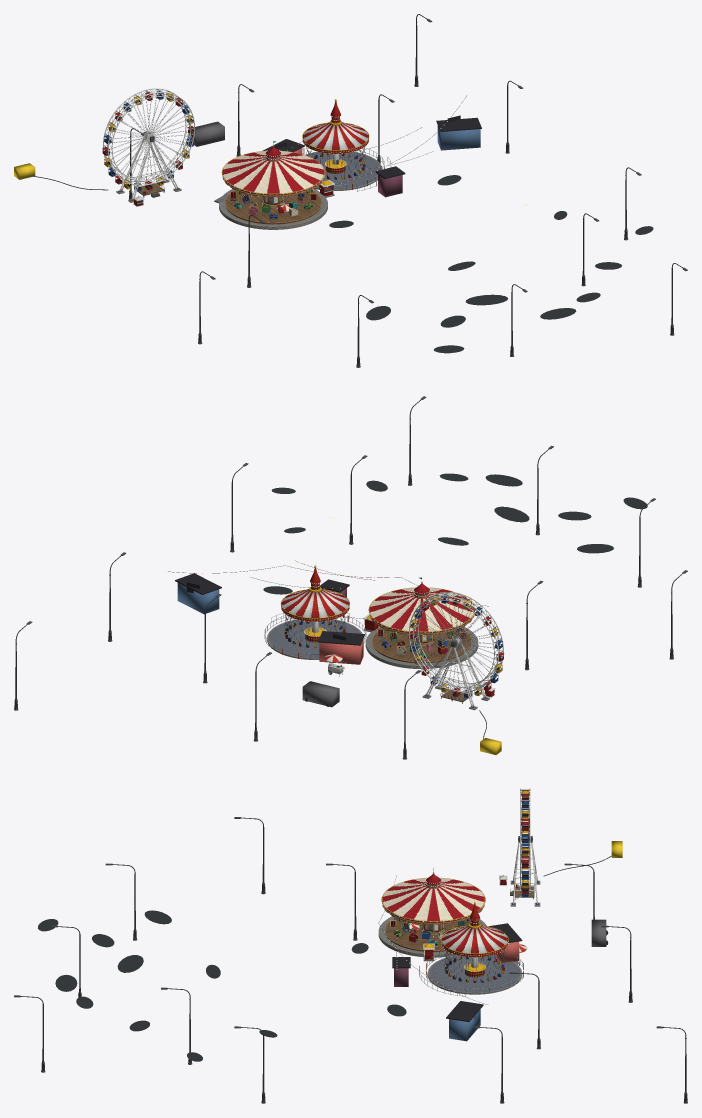
Rendered from carnival.glb.
The picture shows the model from 3 angles, top to bottom: view 1: azimuth 30°, elevation 25°; view 2: azimuth 150°, elevation 25°; view 3: azimuth 270°, elevation 25°; orthographic projection. The views are drawn at different scales.
Visible parts, largest first — view 1: canopy_red, canopy_cream, wheel_white, wheel_cable, platform_deck, body_floor, top_spin_red, top_spin_white, FoodTr_1, body_white, EqTrailer, body_tread; view 2: wheel_white, canopy_red, canopy_cream, body_floor, wheel_cable, platform_deck, top_spin_red, top_spin_white, body_white, FoodTr_1, FoodTr_0, EqTrailer (+1 smaller); view 3: body_floor, canopy_red, canopy_cream, top_spin_red, platform_deck, top_spin_white, FoodTr_1, FoodAwn_1, body_steel.
Boxes of the visible parts, x1=… form: canopy_red: x1=221, y1=147, x2=325, y2=194; canopy_cream: x1=222, y1=151, x2=324, y2=193; wheel_white: x1=103, y1=88, x2=194, y2=185; wheel_cable: x1=111, y1=95, x2=189, y2=180; platform_deck: x1=225, y1=190, x2=321, y2=222; body_floor: x1=306, y1=152, x2=380, y2=188; top_spin_red: x1=303, y1=102, x2=368, y2=150; top_spin_white: x1=303, y1=122, x2=368, y2=150; FoodTr_1: x1=437, y1=125, x2=480, y2=150; body_white: x1=119, y1=138, x2=178, y2=203; EqTrailer: x1=189, y1=121, x2=224, y2=146; body_tread: x1=219, y1=189, x2=327, y2=226; wheel_white: x1=409, y1=592, x2=503, y2=692; canopy_red: x1=368, y1=583, x2=474, y2=632; canopy_cream: x1=369, y1=588, x2=474, y2=632; body_floor: x1=268, y1=619, x2=360, y2=657; wheel_cable: x1=414, y1=601, x2=496, y2=685; platform_deck: x1=372, y1=628, x2=471, y2=661; top_spin_red: x1=281, y1=568, x2=349, y2=617; top_spin_white: x1=282, y1=589, x2=348, y2=617; body_white: x1=425, y1=644, x2=495, y2=707; FoodTr_1: x1=177, y1=583, x2=219, y2=614; FoodTr_0: x1=319, y1=639, x2=363, y2=664; EqTrailer: x1=302, y1=681, x2=339, y2=707; body_floor: x1=429, y1=955, x2=520, y2=992; canopy_red: x1=381, y1=874, x2=485, y2=921; canopy_cream: x1=382, y1=878, x2=484, y2=921; top_spin_red: x1=441, y1=905, x2=507, y2=953; platform_deck: x1=385, y1=917, x2=470, y2=950; top_spin_white: x1=442, y1=925, x2=507, y2=953; FoodTr_1: x1=449, y1=1009, x2=480, y2=1041; FoodAwn_1: x1=446, y1=1001, x2=483, y2=1021; body_steel: x1=419, y1=950, x2=523, y2=996.
Size of what is drawn, in the model's own units: 55.23 by 16.73 by 73.43.
72 materials, 42 textured.
